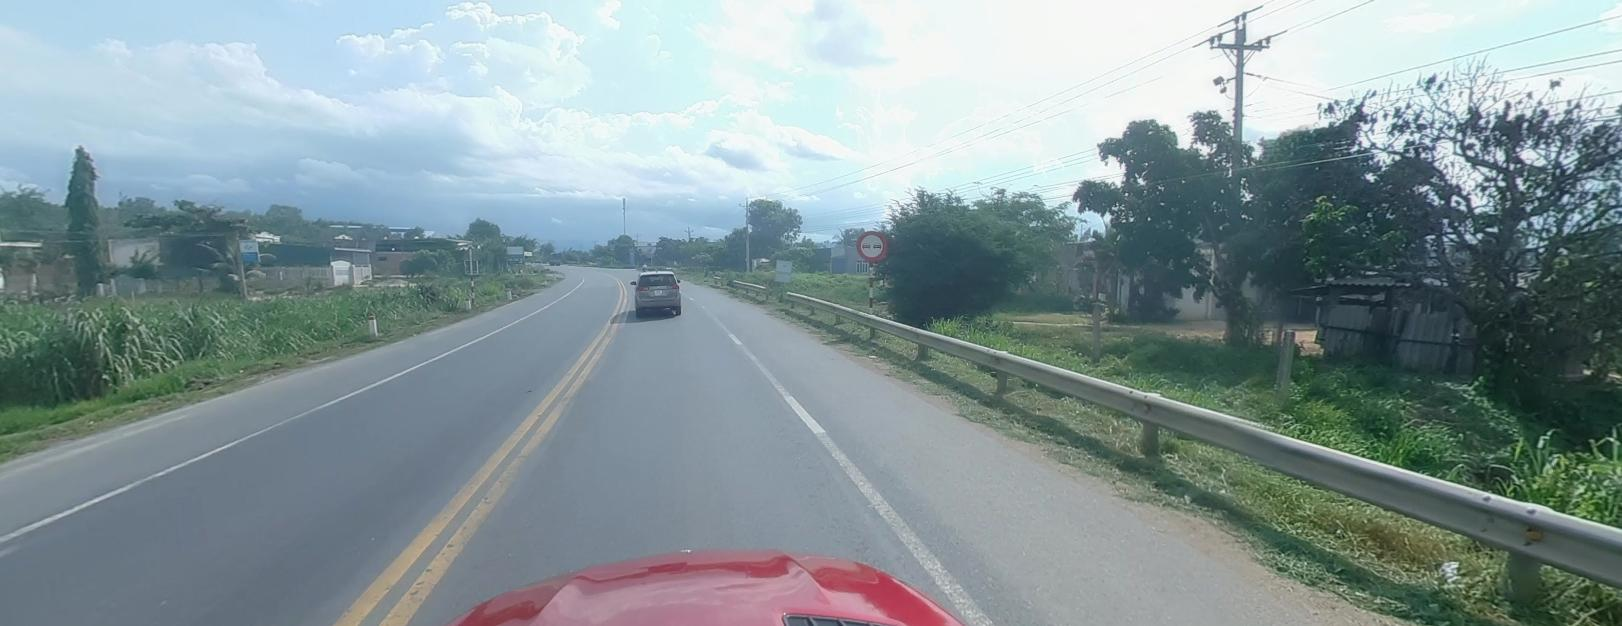Cam con lai: (857, 228, 888, 260)
